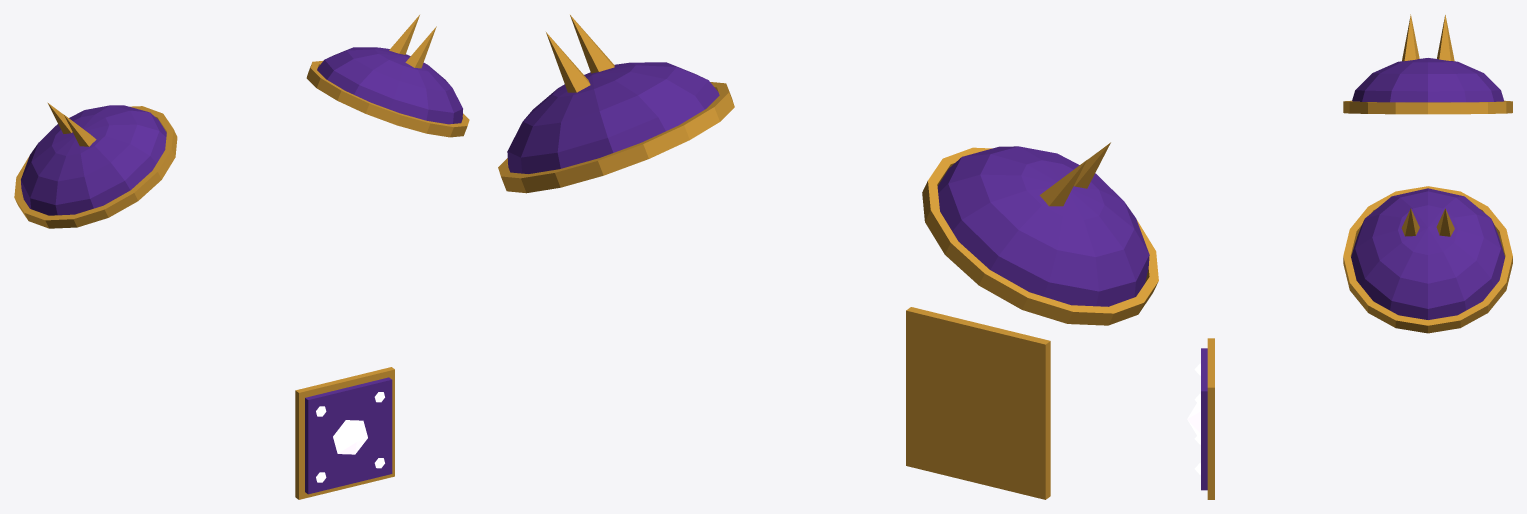
File: armor_lord_chest_epic_human.glb
3 views of the same model, side by side, from view 1: azimuth 30°, elevation 25°; view 2: azimuth 150°, elevation 25°; view 3: azimuth 270°, elevation 25° (orthographic). The views are drawn at different scales.
Parts seen in each view (by area): view 1: armor_lord_chest_epic_human__clavicle_r, armor_lord_chest_epic_human__spine_03, armor_lord_chest_epic_human__clavicle_l; view 2: armor_lord_chest_epic_human__clavicle_r, armor_lord_chest_epic_human__spine_03, armor_lord_chest_epic_human__clavicle_l; view 3: armor_lord_chest_epic_human__clavicle_l, armor_lord_chest_epic_human__clavicle_r, armor_lord_chest_epic_human__spine_03.
Part boxes in pixels (x1=…): armor_lord_chest_epic_human__clavicle_r: x1=14, y1=102, x2=177, y2=228; armor_lord_chest_epic_human__spine_03: x1=295, y1=367, x2=394, y2=499; armor_lord_chest_epic_human__clavicle_l: x1=306, y1=15, x2=469, y2=137; armor_lord_chest_epic_human__clavicle_r: x1=922, y1=142, x2=1158, y2=325; armor_lord_chest_epic_human__spine_03: x1=906, y1=307, x2=1050, y2=499; armor_lord_chest_epic_human__clavicle_l: x1=498, y1=15, x2=734, y2=193; armor_lord_chest_epic_human__clavicle_l: x1=1343, y1=186, x2=1512, y2=333; armor_lord_chest_epic_human__clavicle_r: x1=1343, y1=14, x2=1512, y2=114; armor_lord_chest_epic_human__spine_03: x1=1187, y1=338, x2=1214, y2=499.
Bounding box in the file's own units: 71.45 × 54.74 × 44.19.
